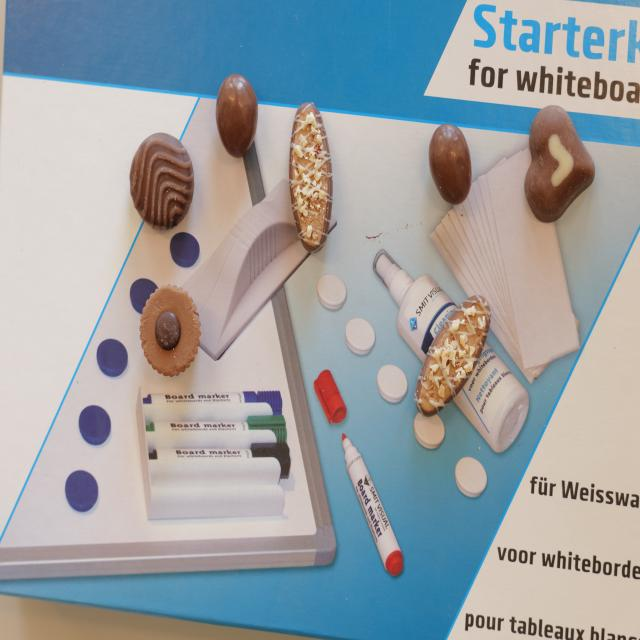Amandina: (415, 297, 491, 417), (288, 100, 334, 253)
Jelly_Milk: (427, 122, 473, 204), (216, 76, 259, 158)
Noblesse: (142, 283, 200, 377)
Noir_authentique: (130, 134, 193, 228)
Passion_au_lait: (523, 105, 595, 223)
